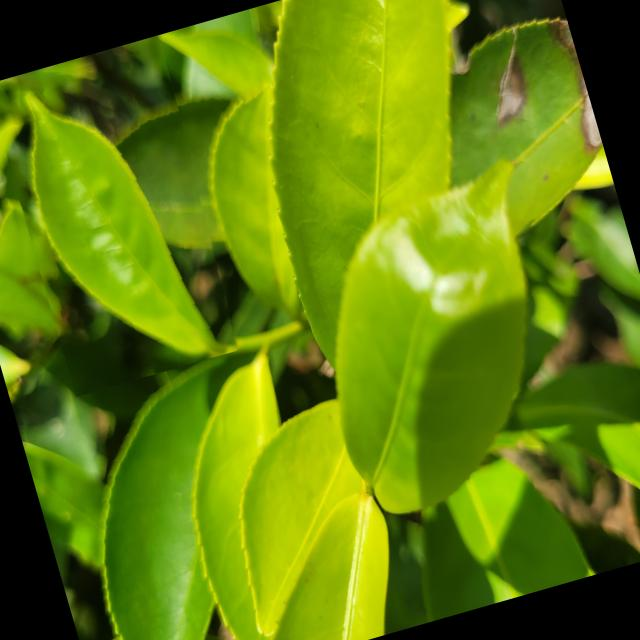Catagory A(1-2 days): (0, 40, 248, 395)
